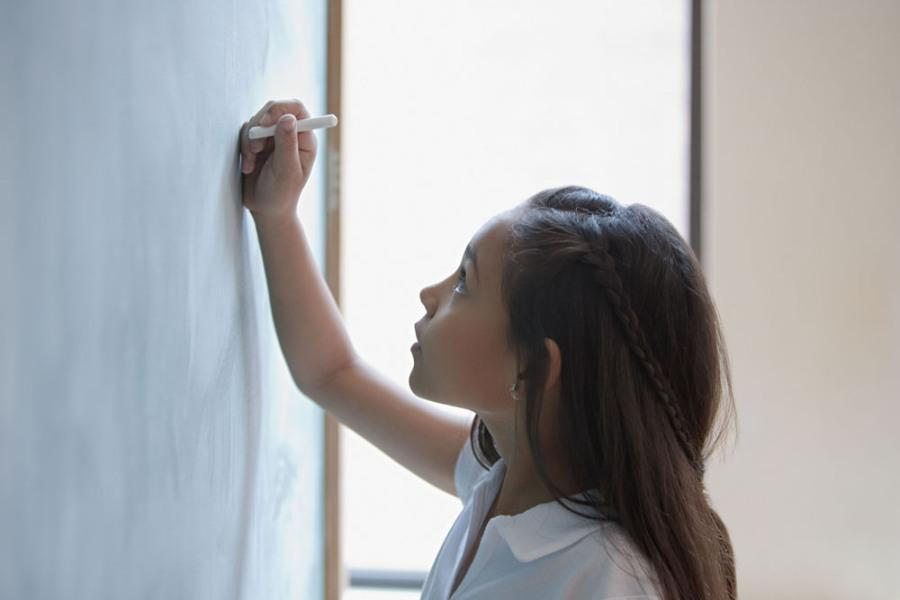person: (240, 103, 742, 600)
